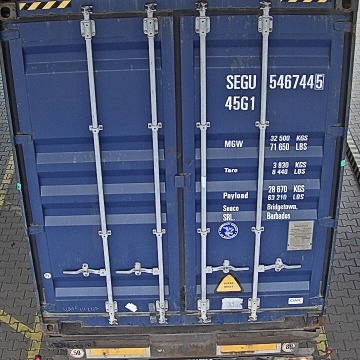serial_id: (226, 73, 324, 89)
